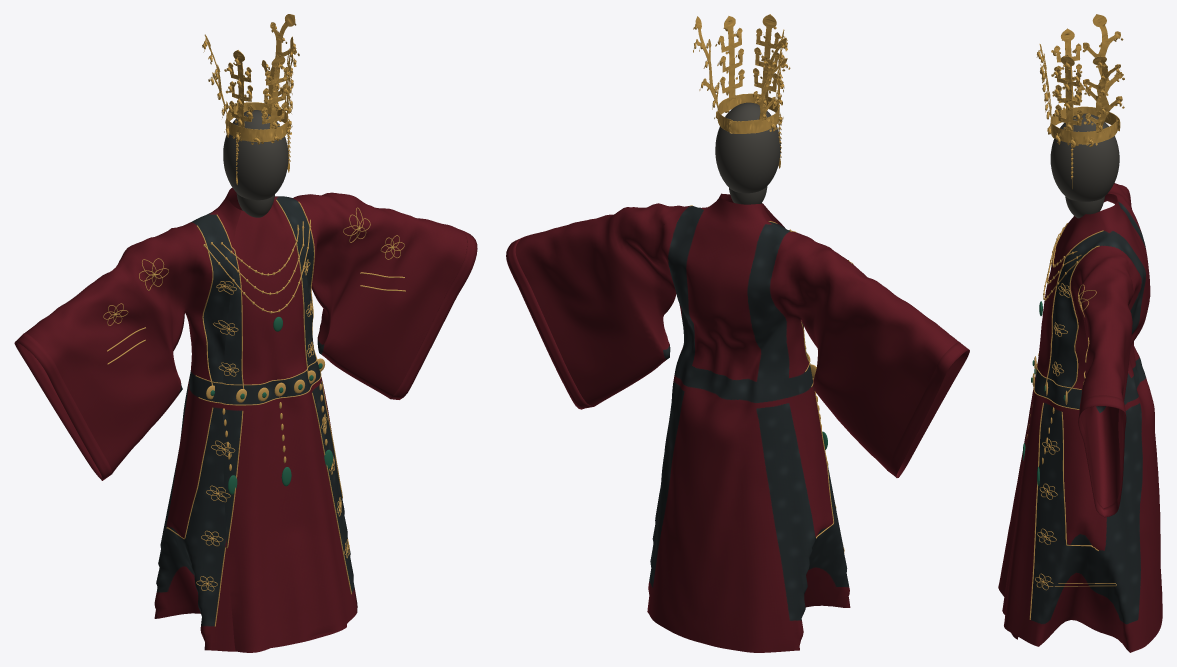
3 renders of one model, left to right at view 1: azimuth 30°, elevation 25°; view 2: azimuth 150°, elevation 25°; view 3: azimuth 270°, elevation 25°, orthographic.
Visible parts, largest first — view 1: SM_CL00125; view 2: SM_CL00125; view 3: SM_CL00125.
Part boxes in pixels (box(x1,y1,x2,y2)): SM_CL00125: box(14, 14, 477, 652); SM_CL00125: box(506, 14, 969, 652); SM_CL00125: box(998, 14, 1162, 652).
Bounding box in the file's own units: 1.66 × 2.08 × 0.5324.
Materials: 8 (5 with a texture image).
